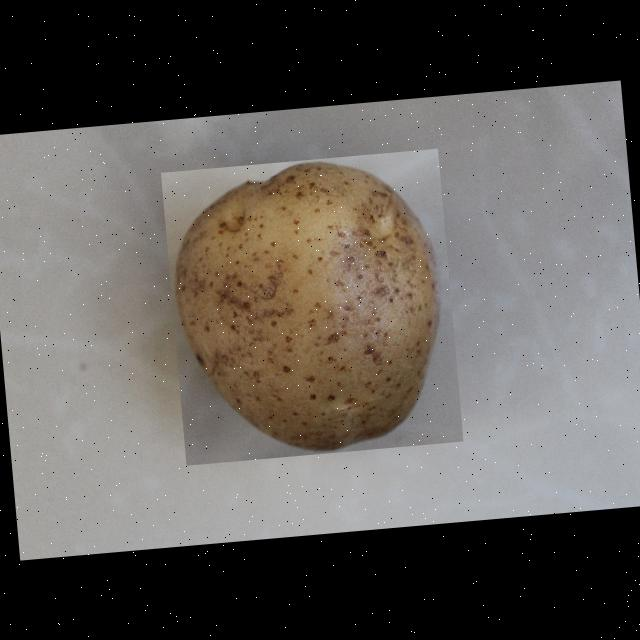Diseased-fungal potato: (160, 148, 464, 465)
